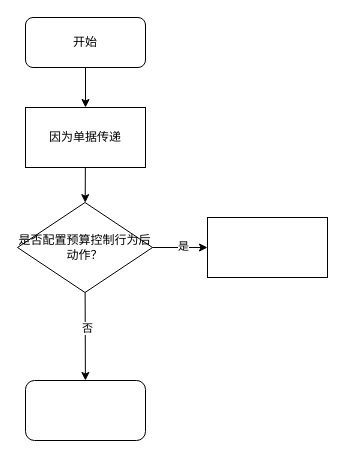
This 345x458 diagram has some shape labels left out. Here are the shapes that lost their labels. From the top down, the centre of each, then its label:
At pixel 267 247: "触发".
At pixel 85 410: "结束".
